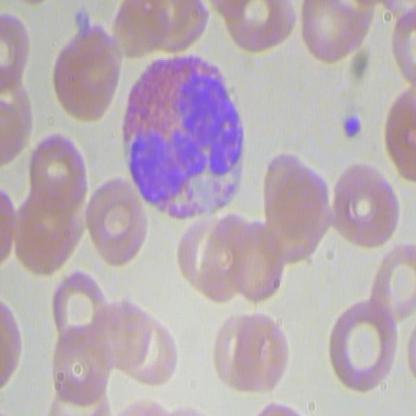Platelets: (342, 107, 363, 142)
RBC: (48, 21, 124, 126), (327, 157, 402, 256), (330, 292, 398, 394), (84, 177, 149, 267), (231, 308, 296, 398), (49, 317, 114, 407), (226, 217, 290, 303), (209, 306, 263, 398), (301, 1, 375, 67), (92, 298, 151, 368), (365, 241, 415, 323)
WBC: (119, 52, 247, 229)
